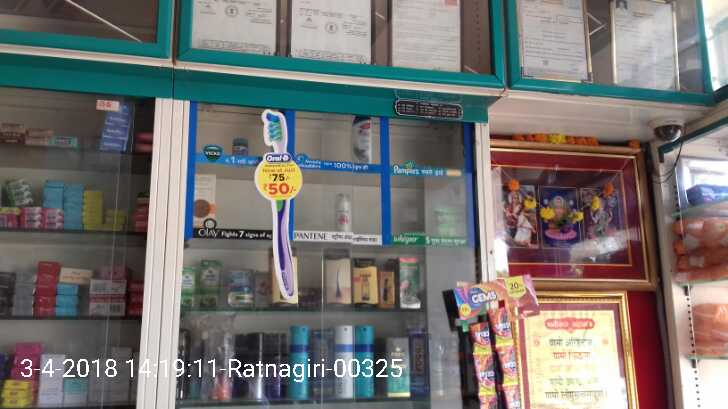vicks: (231, 136, 252, 156)
